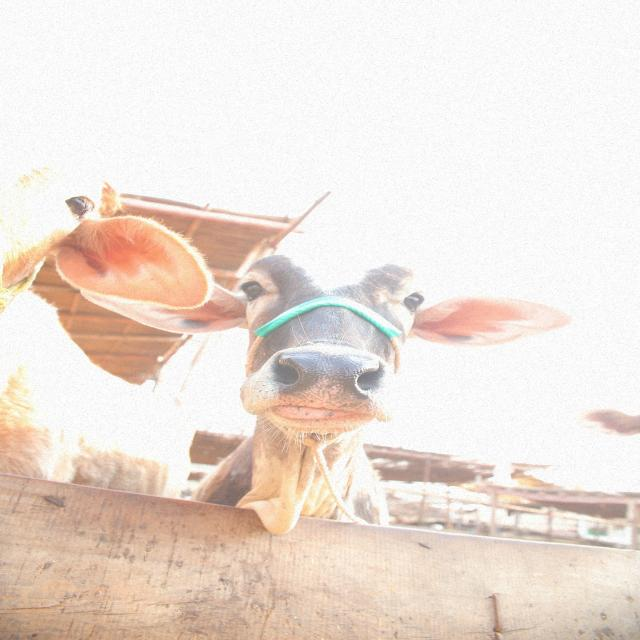muzzles: (251, 342, 396, 418)
